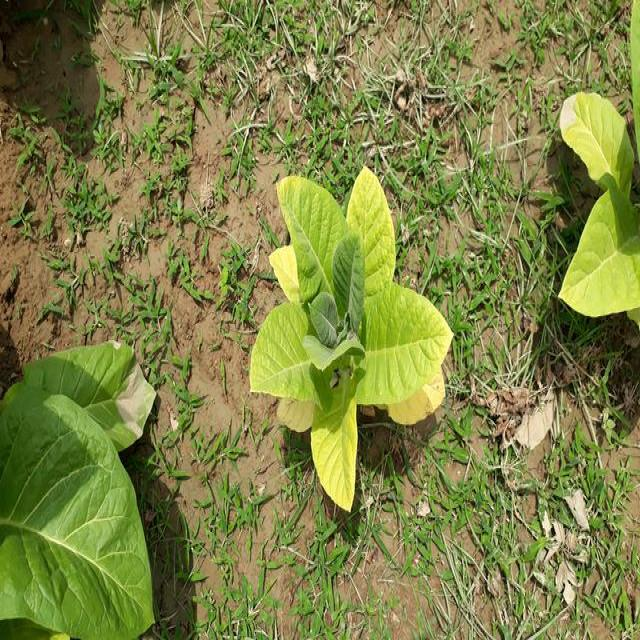crop: (247, 170, 451, 512), (2, 345, 161, 640), (566, 79, 640, 315)
